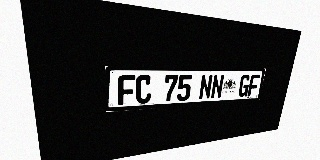5: (177, 75, 192, 101)
7: (163, 75, 178, 102)
C: (135, 75, 152, 104)
F: (118, 75, 135, 105), (247, 75, 260, 96)
G: (238, 75, 251, 97)
N: (198, 75, 213, 100), (210, 75, 225, 99)
